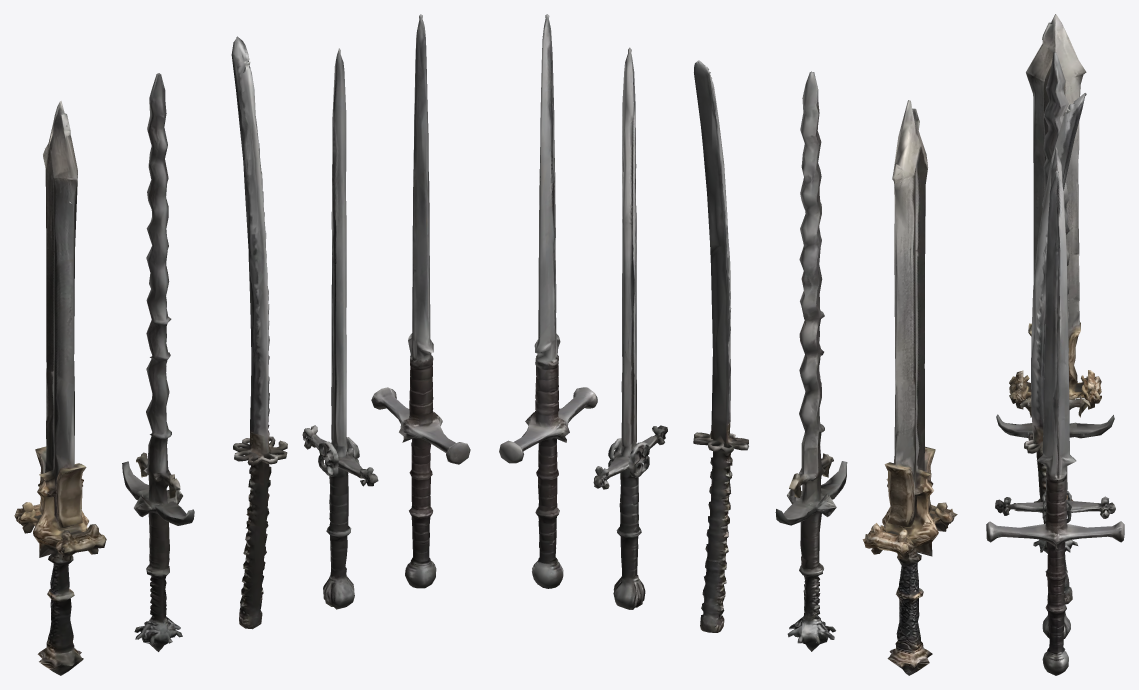
Rendered from weapons_swords_xlong.glb.
3 renders of one model, left to right at view 1: azimuth 30°, elevation 25°; view 2: azimuth 150°, elevation 25°; view 3: azimuth 270°, elevation 25°, orthographic. The views are drawn at different scales.
Parts seen in each view (by area): view 1: sword_xl_greatsword, sword_xl_flamberge, sword_xl_zweihander, sword_xl_nodachi, sword_xl_claymore; view 2: sword_xl_greatsword, sword_xl_flamberge, sword_xl_zweihander, sword_xl_nodachi, sword_xl_claymore; view 3: sword_xl_zweihander, sword_xl_greatsword, sword_xl_nodachi, sword_xl_flamberge, sword_xl_claymore.
Part boxes in pixels (bbox=[...]): sword_xl_greatsword: bbox=[14, 101, 106, 675]; sword_xl_flamberge: bbox=[122, 73, 194, 651]; sword_xl_zweihander: bbox=[371, 14, 470, 588]; sword_xl_nodachi: bbox=[231, 36, 287, 629]; sword_xl_claymore: bbox=[302, 48, 378, 609]; sword_xl_greatsword: bbox=[862, 100, 957, 675]; sword_xl_flamberge: bbox=[775, 71, 847, 651]; sword_xl_zweihander: bbox=[499, 14, 597, 588]; sword_xl_nodachi: bbox=[693, 60, 748, 632]; sword_xl_claymore: bbox=[593, 47, 667, 609]; sword_xl_zweihander: bbox=[986, 170, 1124, 675]; sword_xl_greatsword: bbox=[1009, 14, 1101, 502]; sword_xl_nodachi: bbox=[1024, 93, 1086, 604]; sword_xl_flamberge: bbox=[996, 52, 1114, 553]; sword_xl_claymore: bbox=[995, 147, 1115, 639].
Size of the model in its own units: 0.5509 by 0.7424 by 0.1823.
1 material, 1 textured.
